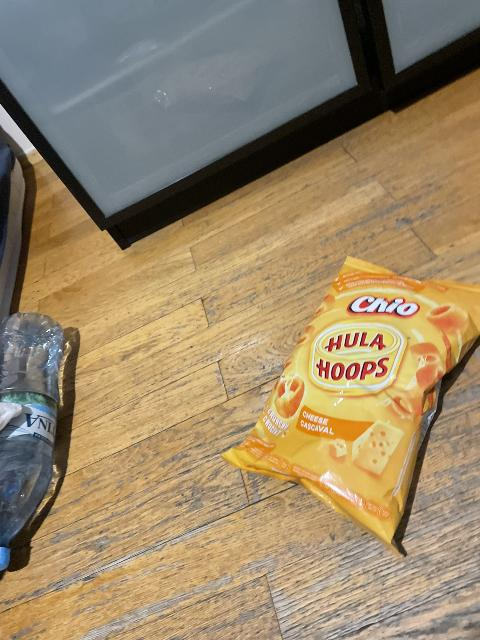Chio Hula Hoops Cheese 70g: (226, 248, 480, 557)
